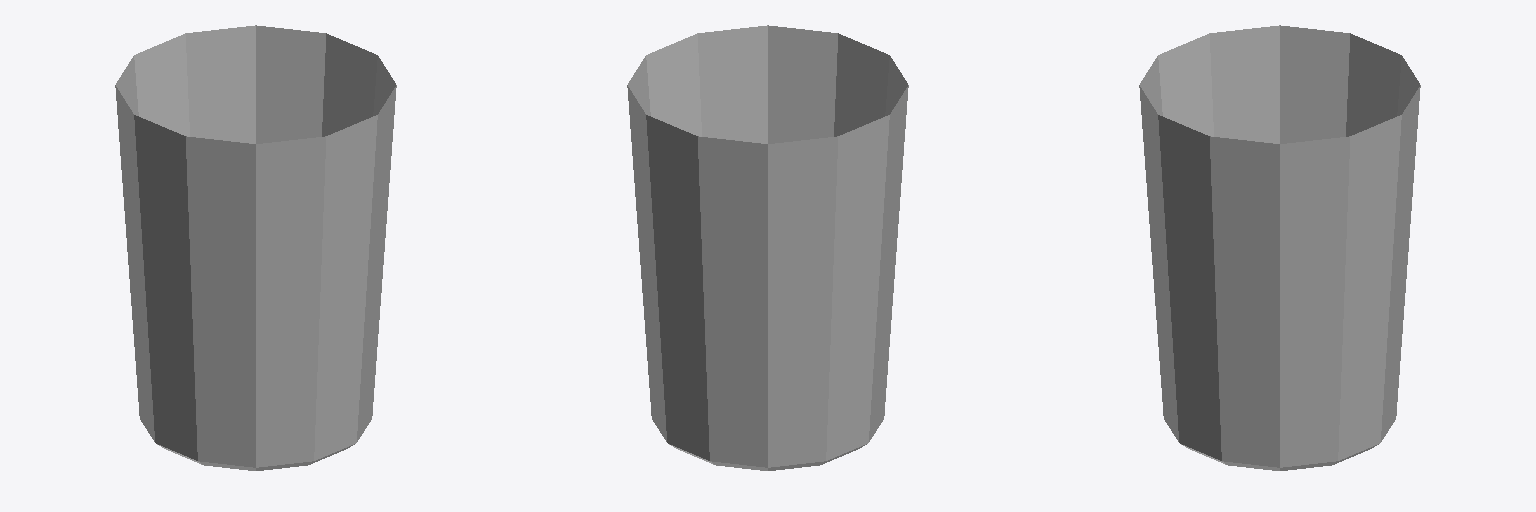
The picture shows the model from 3 angles: view 1: azimuth 30°, elevation 25°; view 2: azimuth 150°, elevation 25°; view 3: azimuth 270°, elevation 25°; orthographic projection.
Parts seen in each view (by area): view 1: group[number redacted]; view 2: group[number redacted]; view 3: group[number redacted].
Boxes of the visible parts, x1=… form: group[number redacted]: x1=115, y1=25, x2=396, y2=470; group[number redacted]: x1=627, y1=25, x2=908, y2=470; group[number redacted]: x1=1139, y1=25, x2=1420, y2=470.
Size of the model in its own units: 1.8 by 2.42 by 1.8.